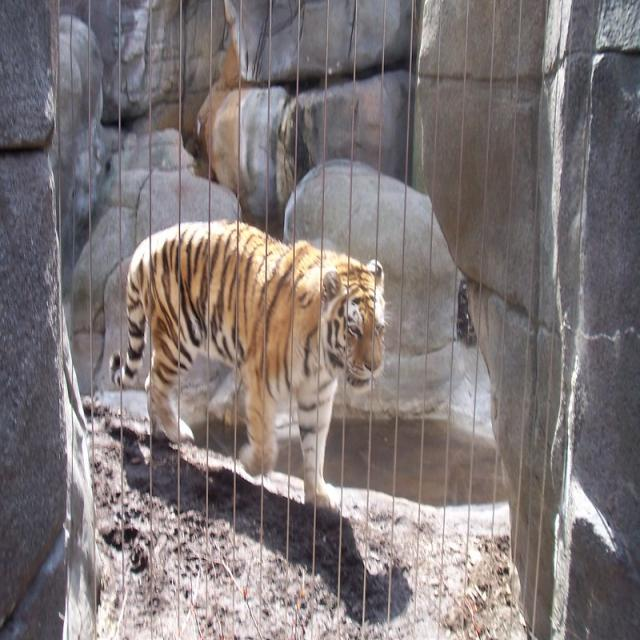Tiger: (109, 219, 384, 511)
